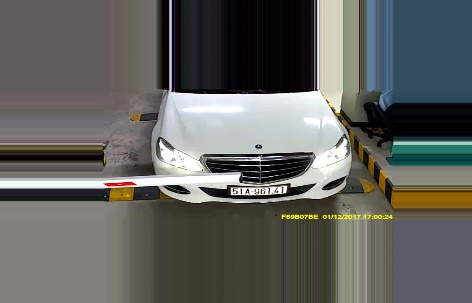plate: (227, 183, 291, 198)
